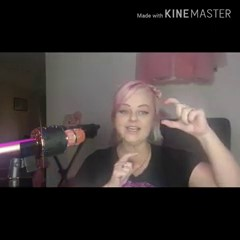C: (159, 93, 208, 137)
